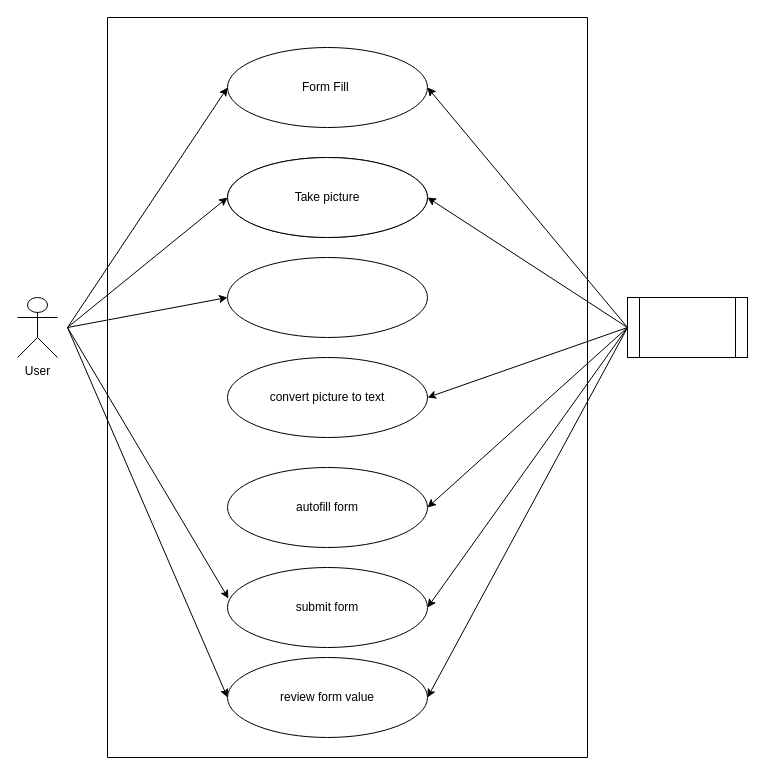
Image size: 765x775. Some labels were removed from this diagram. Each missing label, with the box of its shape:
upload picture: (226, 256, 428, 338)
Web Browser: (626, 296, 748, 358)
